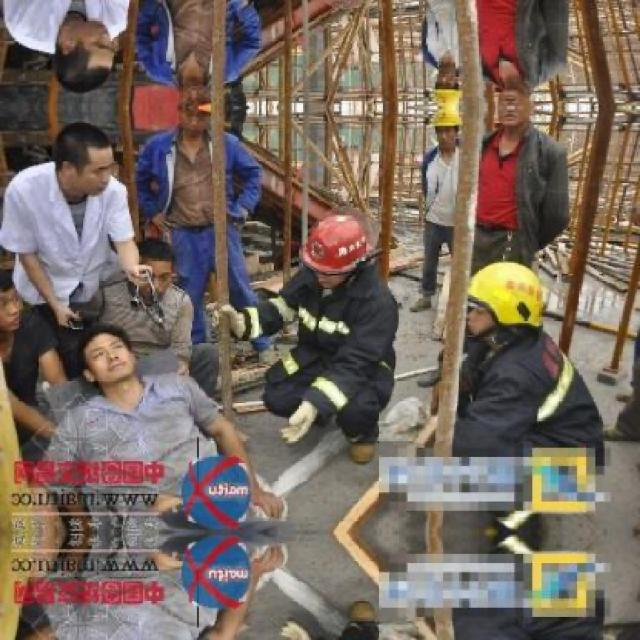con casco: (408, 239, 561, 373), (274, 204, 420, 314)
sin casco: (29, 128, 151, 208), (62, 322, 147, 388)
